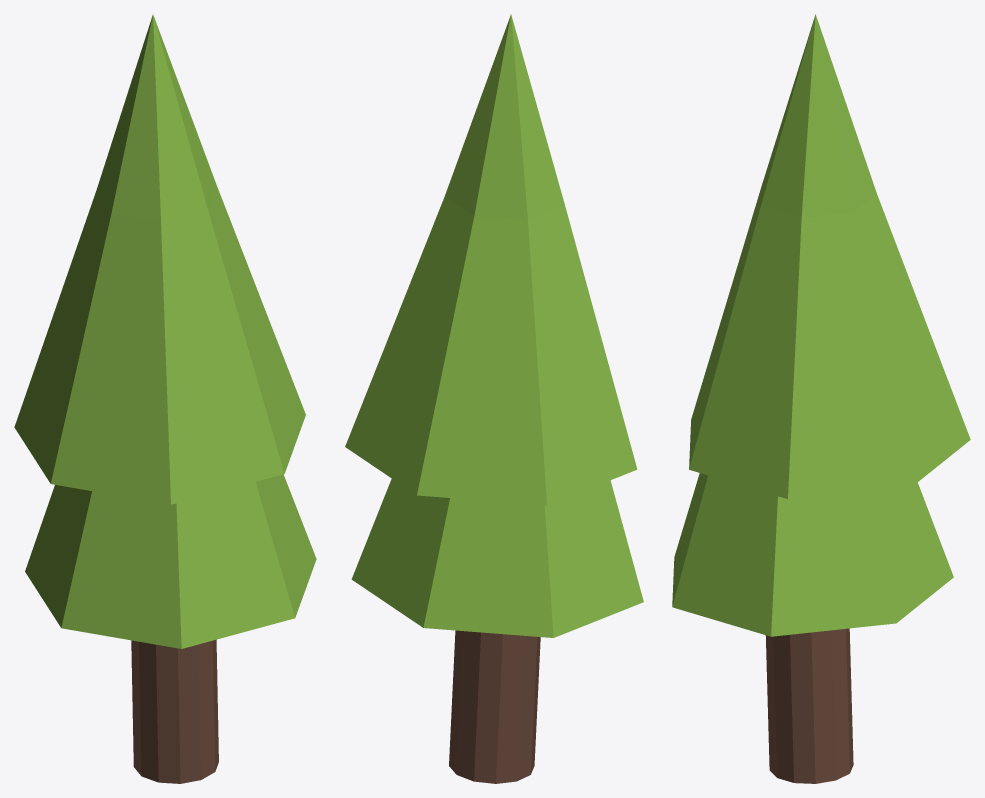
File: tree_10_mesh1145296422.glb
3 renders of one model, left to right at view 1: azimuth 30°, elevation 25°; view 2: azimuth 150°, elevation 25°; view 3: azimuth 270°, elevation 25°, orthographic. The views are drawn at different scales.
Parts seen in each view (by area): view 1: part_2_mesh1145296422_1, part_1_mesh1145296422; view 2: part_2_mesh1145296422_1, part_1_mesh1145296422; view 3: part_2_mesh1145296422_1, part_1_mesh1145296422.
Part boxes in pixels (x1=…): part_2_mesh1145296422_1: x1=14, y1=14, x2=316, y2=648; part_1_mesh1145296422: x1=131, y1=639, x2=218, y2=783; part_2_mesh1145296422_1: x1=345, y1=14, x2=643, y2=637; part_1_mesh1145296422: x1=449, y1=630, x2=540, y2=783; part_2_mesh1145296422_1: x1=672, y1=14, x2=970, y2=636; part_1_mesh1145296422: x1=765, y1=628, x2=853, y2=783.
Size of the model in its own units: 0.1375 by 0.3897 by 0.1415.
